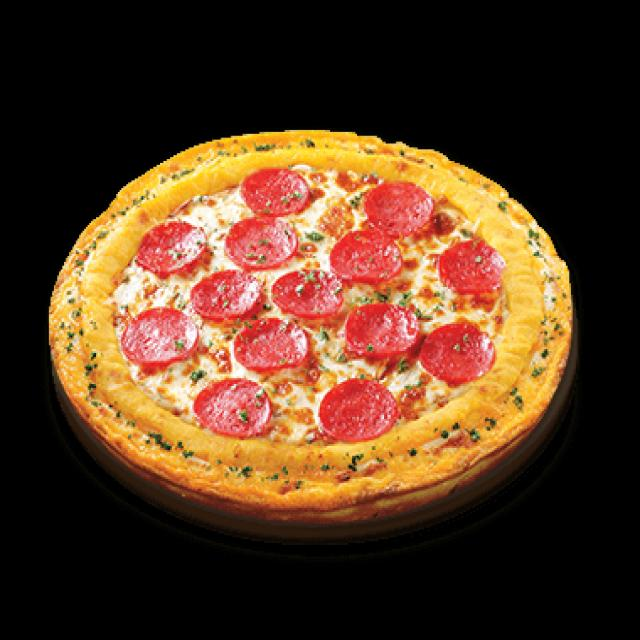Wet Waste: (45, 124, 577, 531)
